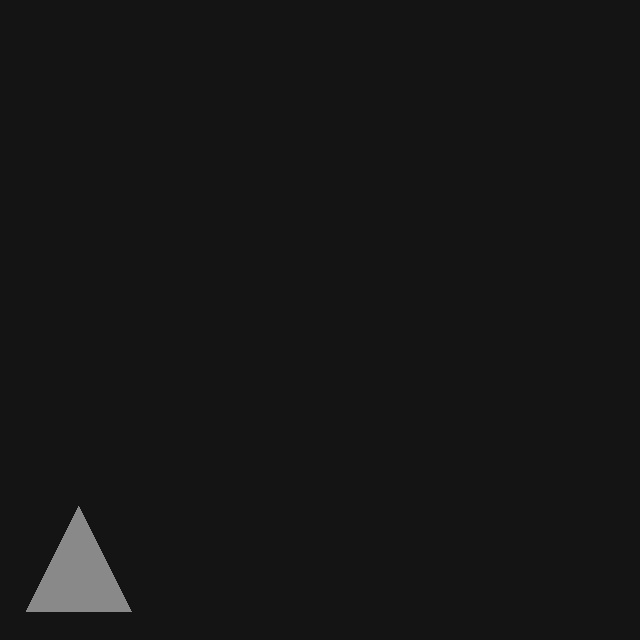triangle: (26, 506, 131, 611)
